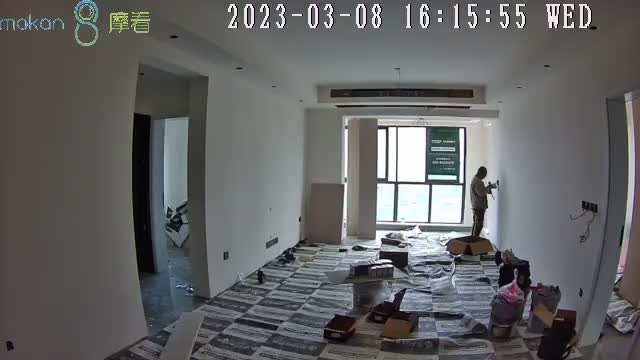people: (470, 166, 492, 236)
window: (376, 125, 465, 223)
